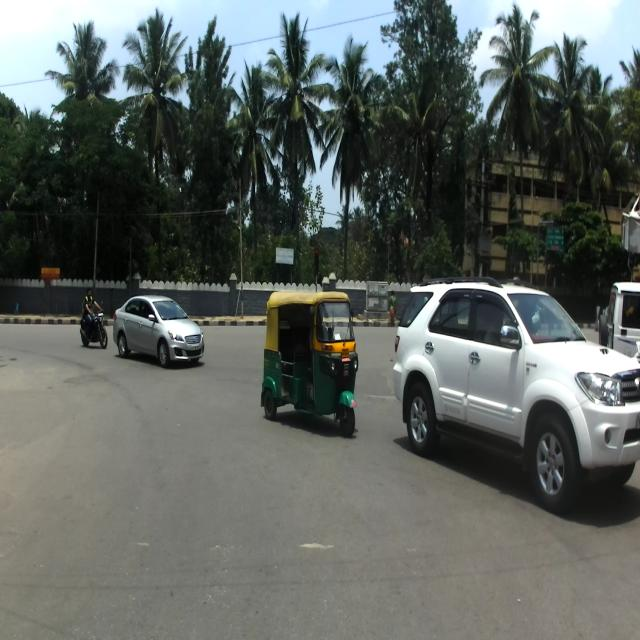auto ahead at: (260, 281, 361, 447)
car ahead at: (393, 271, 640, 511), (111, 291, 207, 374)
